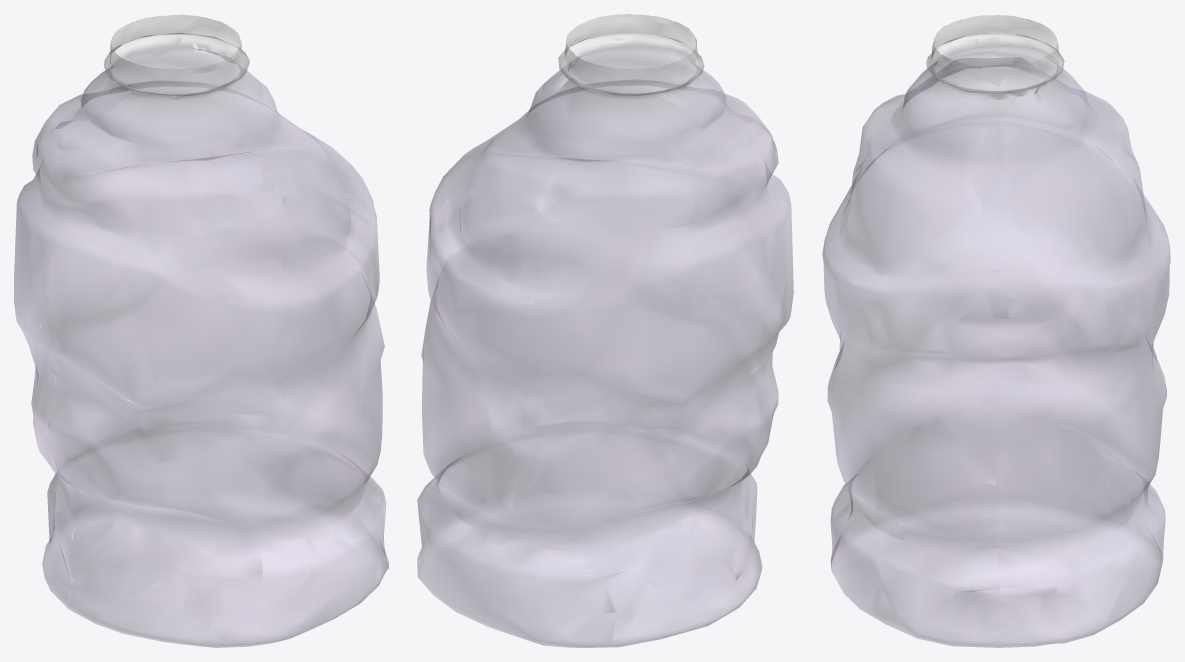
Rendered from 07_15_nj_et_prp_m_trs-opt-v49.glb.
3 renders of one model, left to right at view 1: azimuth 30°, elevation 25°; view 2: azimuth 150°, elevation 25°; view 3: azimuth 270°, elevation 25°, orthographic. The views are drawn at different scales.
Parts seen in each view (by area): view 1: prp.003; view 2: prp.003; view 3: prp.003.
Part boxes in pixels (bbox=[...]): prp.003: bbox=[14, 14, 388, 647]; prp.003: bbox=[417, 14, 793, 647]; prp.003: bbox=[822, 14, 1170, 647].
Size of the model in its own units: 0.1609 by 0.25 by 0.1508.
Materials: 1 (1 with a texture image).
